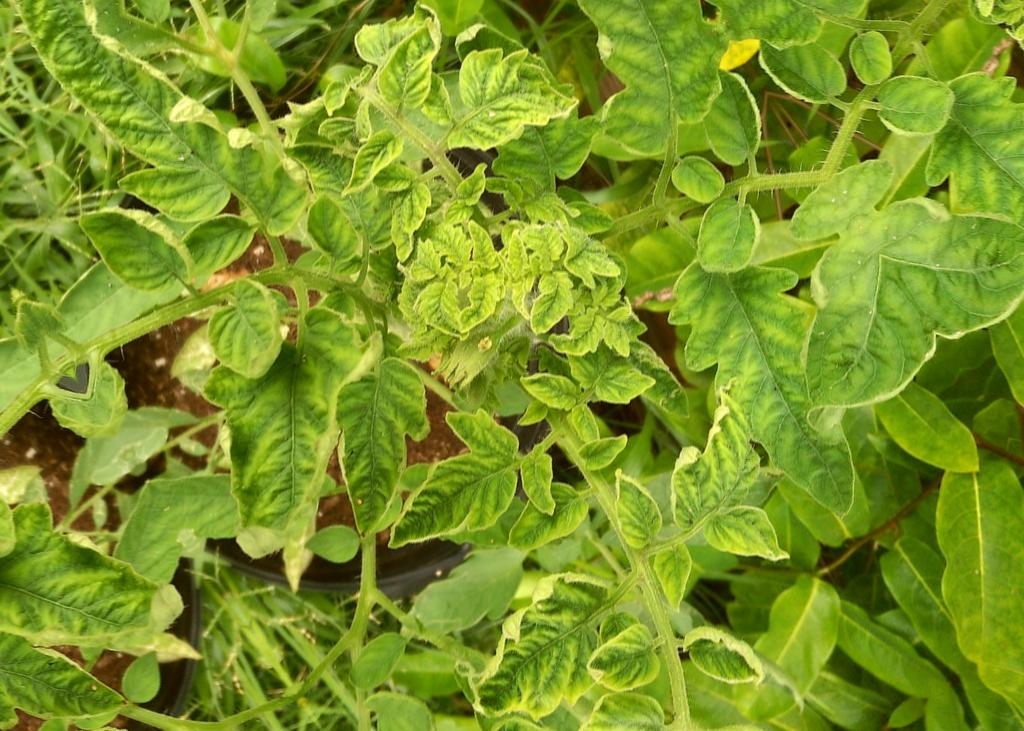Tomato leaf yellow virus: (31, 0, 348, 311), (634, 216, 923, 553), (143, 250, 451, 556), (330, 362, 593, 620), (467, 0, 765, 192), (726, 214, 956, 451), (847, 425, 1024, 680), (424, 544, 657, 731), (284, 331, 488, 541), (657, 565, 893, 731), (624, 389, 810, 574), (408, 14, 583, 186), (440, 628, 700, 731), (167, 248, 328, 407), (340, 0, 603, 53), (671, 605, 776, 716), (585, 458, 685, 563), (323, 118, 418, 205), (368, 180, 455, 266), (401, 268, 485, 357), (505, 263, 593, 347), (514, 350, 590, 430), (565, 418, 640, 486)
